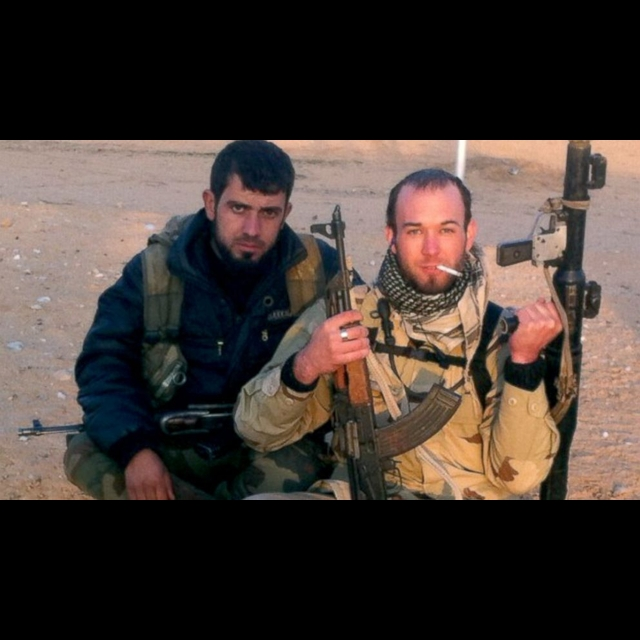AK47: (308, 210, 392, 501)
